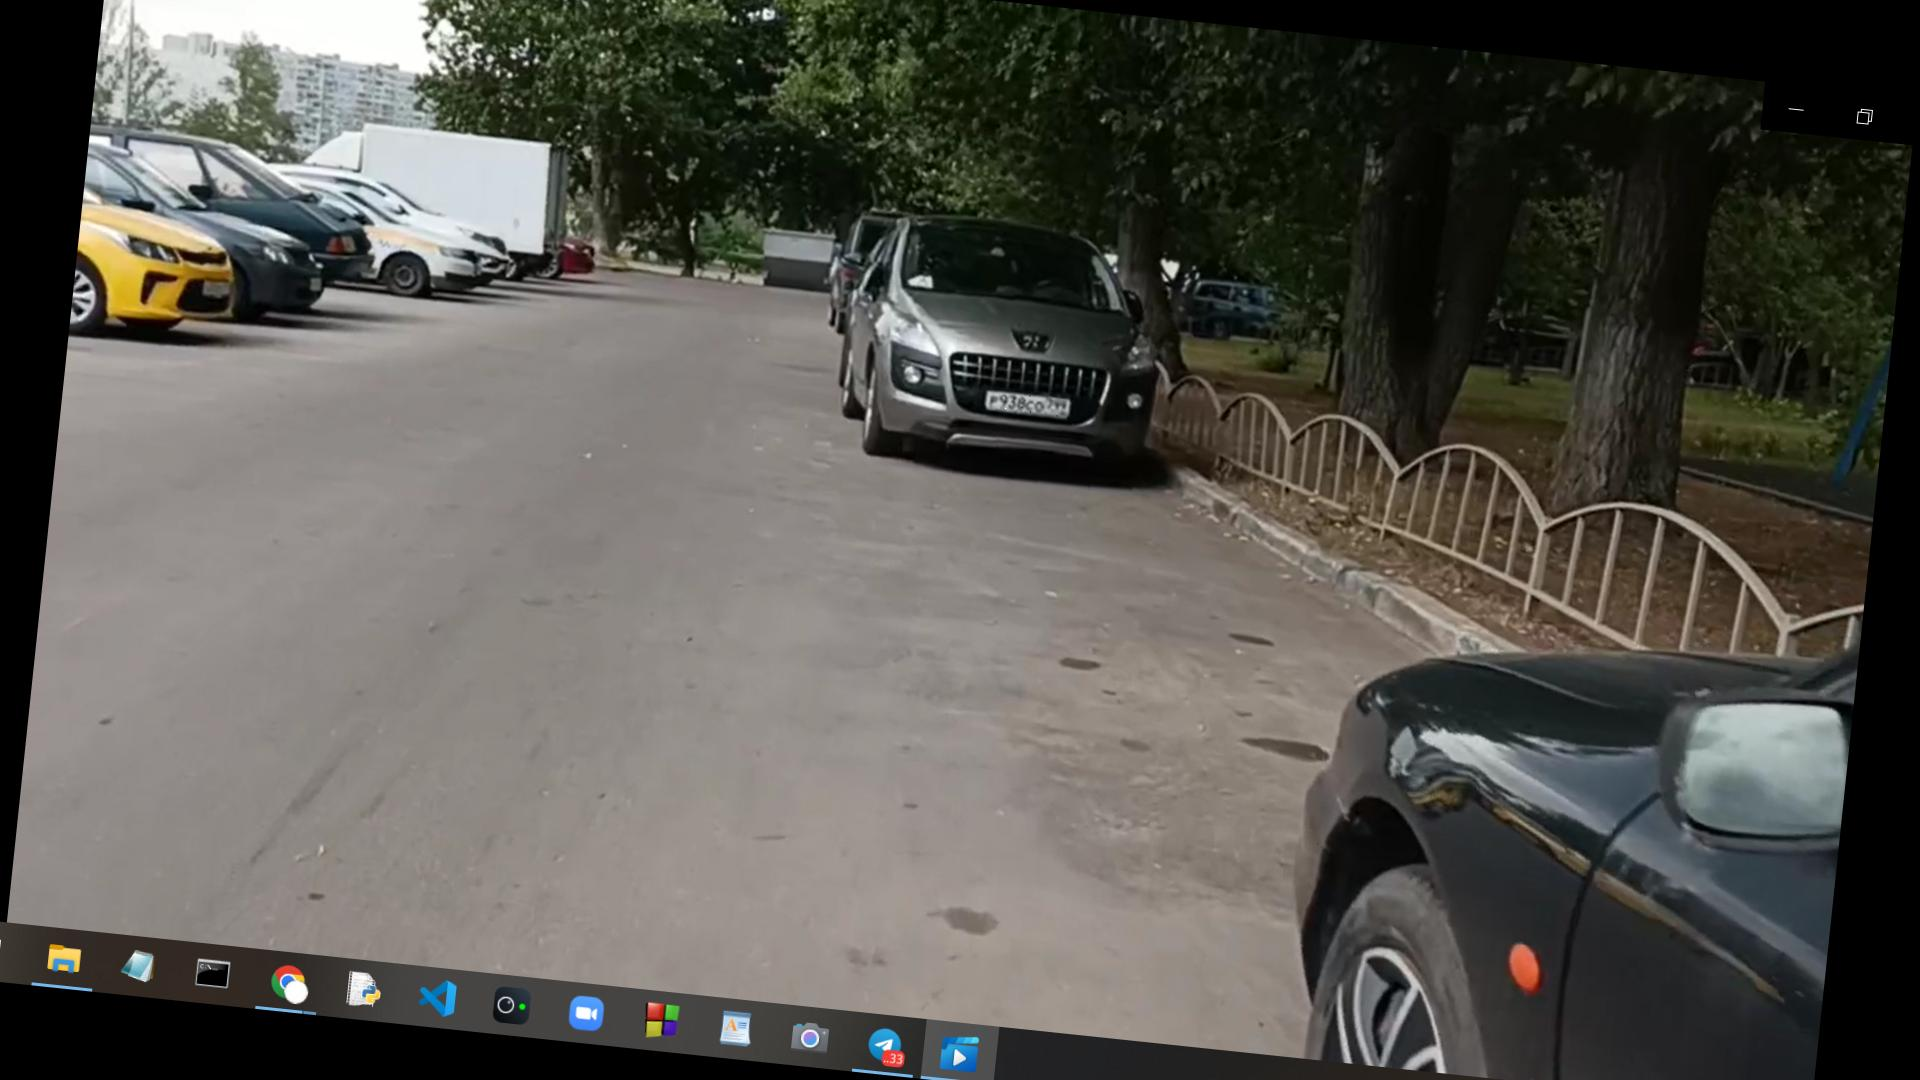plate: (983, 392, 1064, 419)
